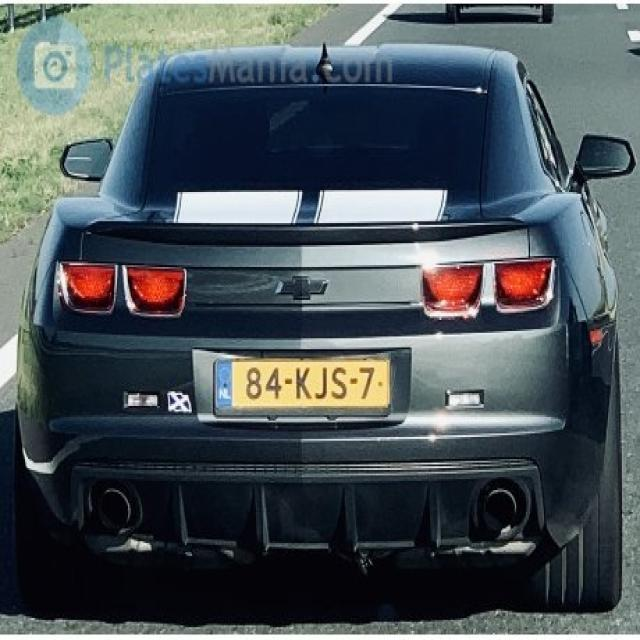number_plate: (209, 351, 388, 408)
